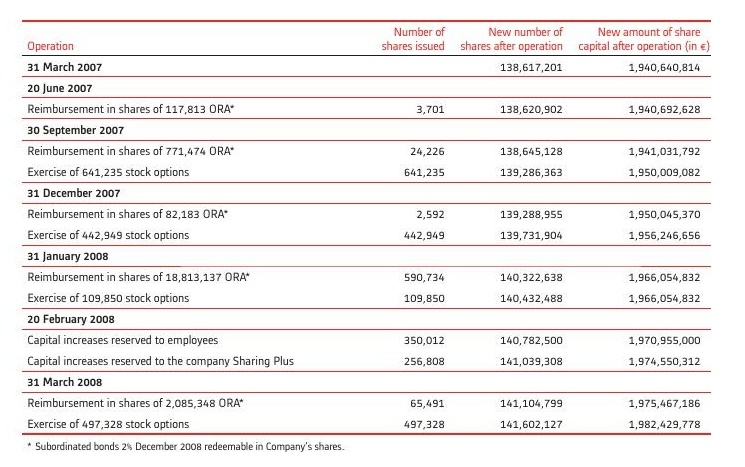table: (0, 0, 745, 467)
